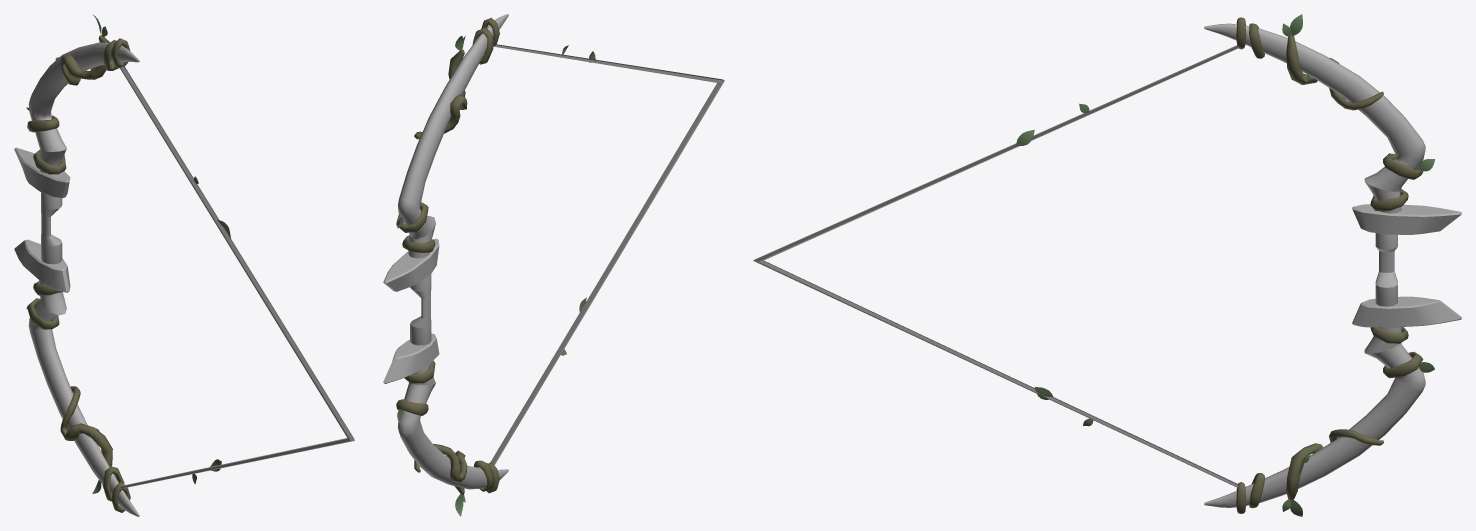
File: bow_BlendShape.fbx
3 renders of one model, left to right at view 1: azimuth 30°, elevation 25°; view 2: azimuth 150°, elevation 25°; view 3: azimuth 270°, elevation 25°, orthographic. The views are drawn at different scales.
Visible parts, largest first — view 1: Bow_string1; view 2: Bow_string1; view 3: Bow_string1.
Part boxes in pixels (<box>): Bow_string1: <box>14,15,354,516</box>; Bow_string1: <box>383,14,724,516</box>; Bow_string1: <box>753,14,1461,516</box>.
Bounding box in the file's own units: 3.33 × 47.07 × 60.11.
